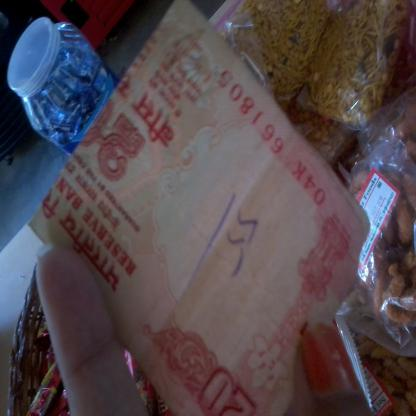Old20Front: (54, 14, 333, 415)
